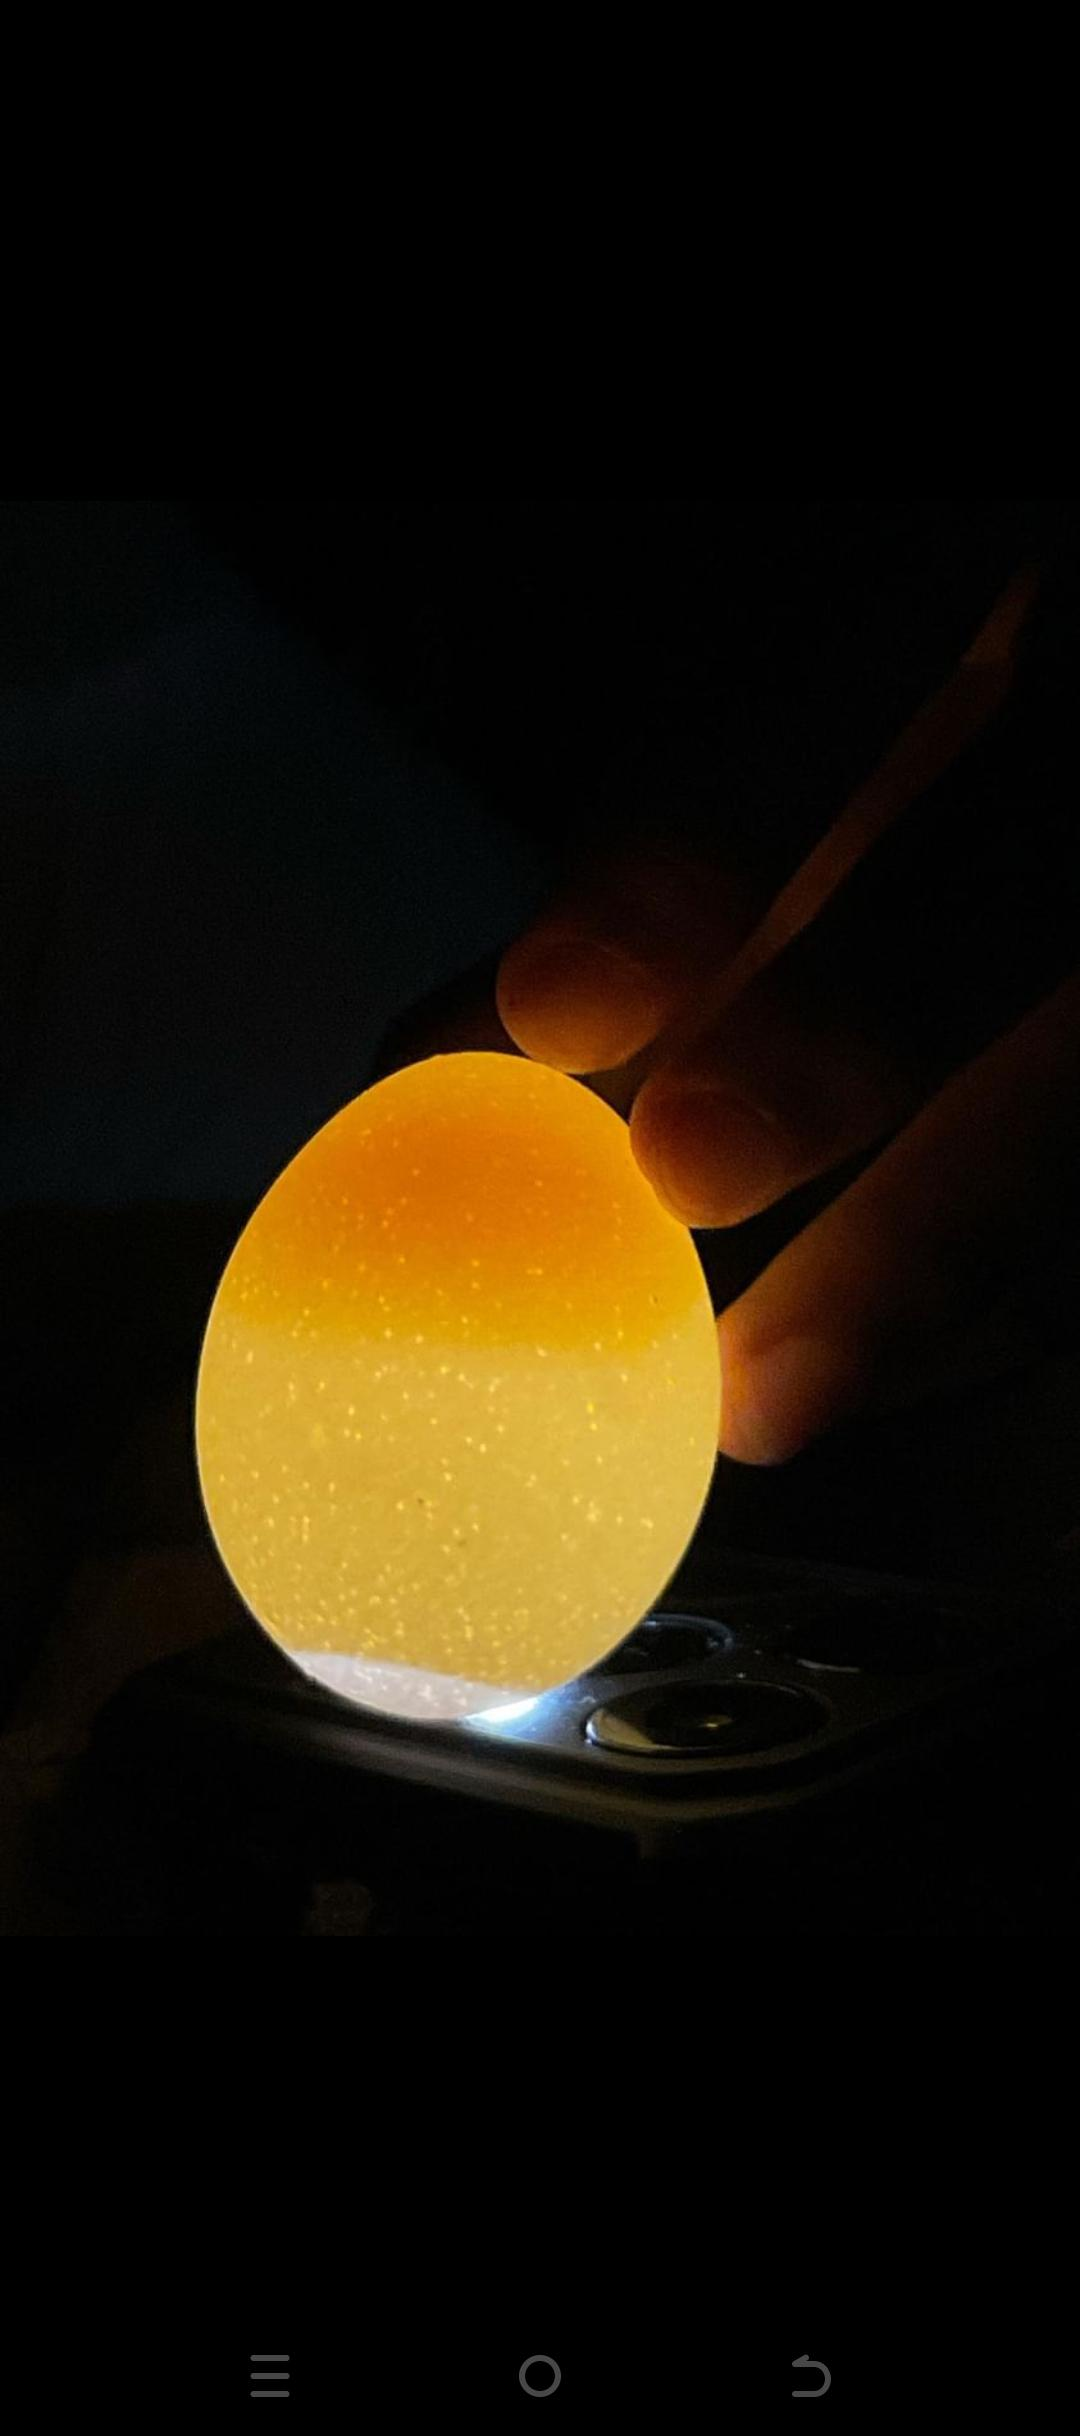A - Good: (166, 1024, 746, 1746)
